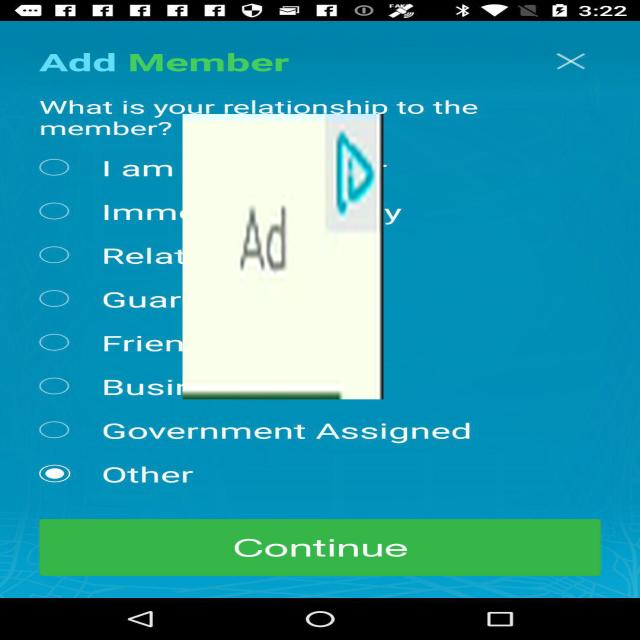sneaking: (182, 114, 384, 399)
